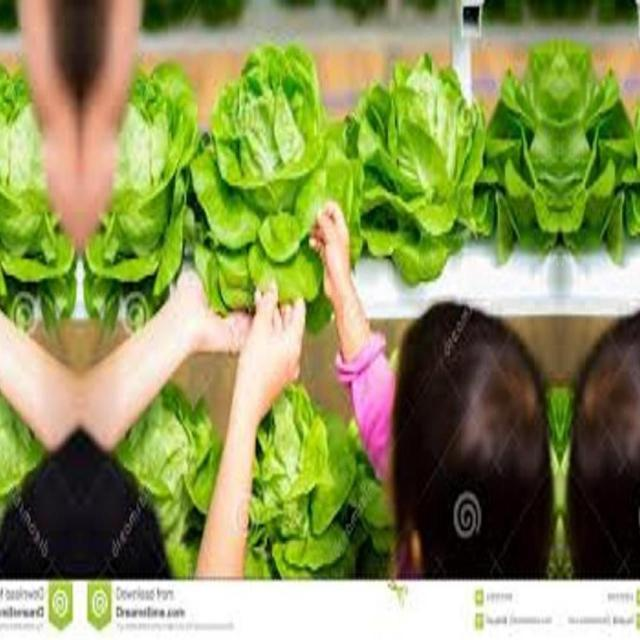healthy: (199, 39, 345, 328), (228, 353, 396, 582), (341, 48, 492, 288), (80, 59, 204, 324), (112, 370, 225, 586), (0, 58, 80, 323), (488, 37, 560, 259), (560, 37, 632, 259), (0, 370, 47, 585), (628, 48, 640, 288)
